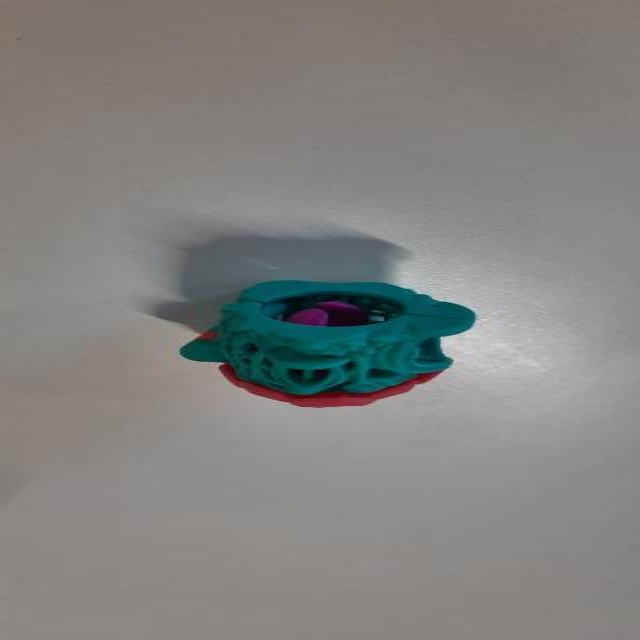House: (133, 240, 496, 428)
